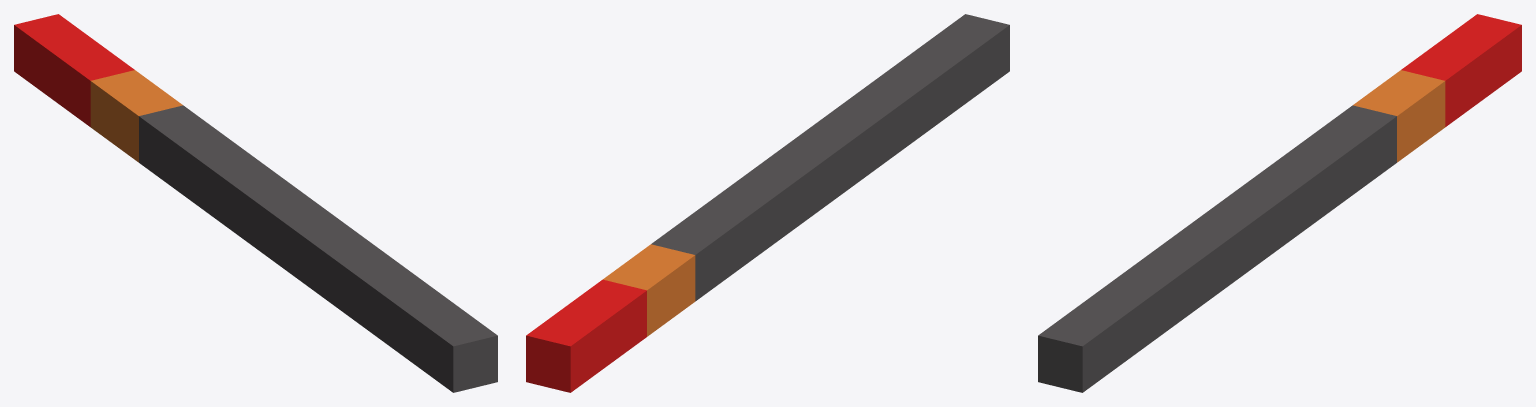
File: heated_iron.glb
The picture shows the model from 3 angles, left to right: view 1: azimuth 30°, elevation 25°; view 2: azimuth 150°, elevation 25°; view 3: azimuth 330°, elevation 25°; orthographic projection.
Visible parts, largest first — view 1: Cube; view 2: Cube; view 3: Cube.
Part boxes in pixels (<box>): Cube: <box>14,14,497,392</box>; Cube: <box>526,14,1009,392</box>; Cube: <box>1038,14,1521,392</box>.
Size of the model in its own units: 0.246 by 0.246 by 4.21.
